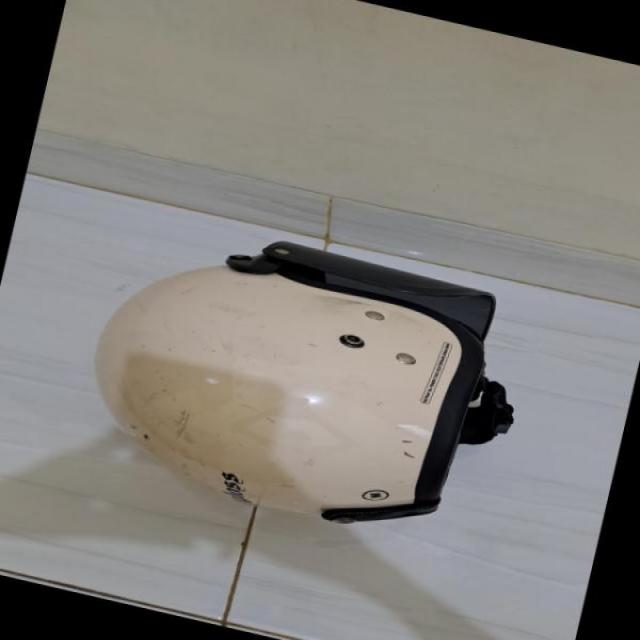Helmet: (86, 213, 557, 534)
